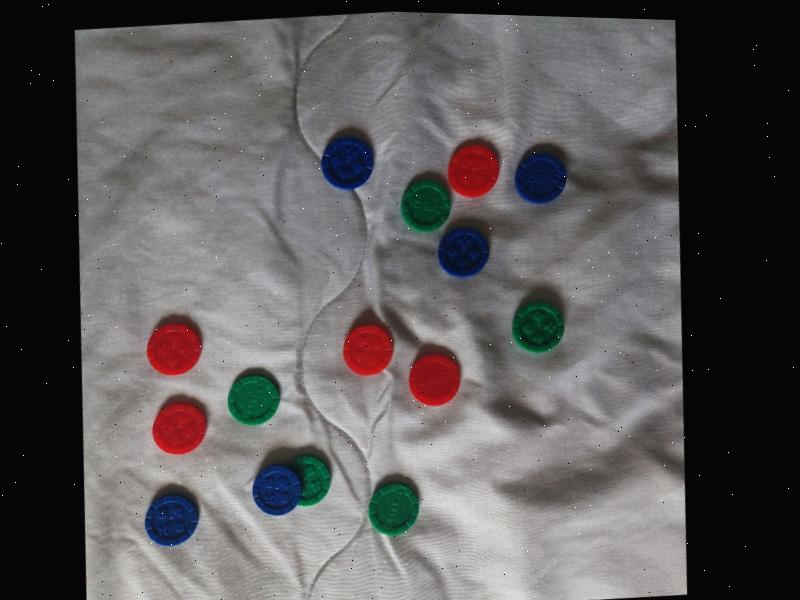Blue_Token: (498, 130, 591, 229), (298, 126, 400, 215), (419, 221, 504, 300), (132, 485, 212, 564), (236, 460, 307, 532)
Green_Token: (219, 352, 304, 444), (482, 288, 574, 366), (349, 466, 432, 550), (384, 167, 457, 238), (291, 450, 360, 525)
Red_Token: (99, 284, 215, 384), (129, 384, 219, 487), (396, 344, 477, 424), (425, 134, 506, 210), (337, 310, 407, 383)
